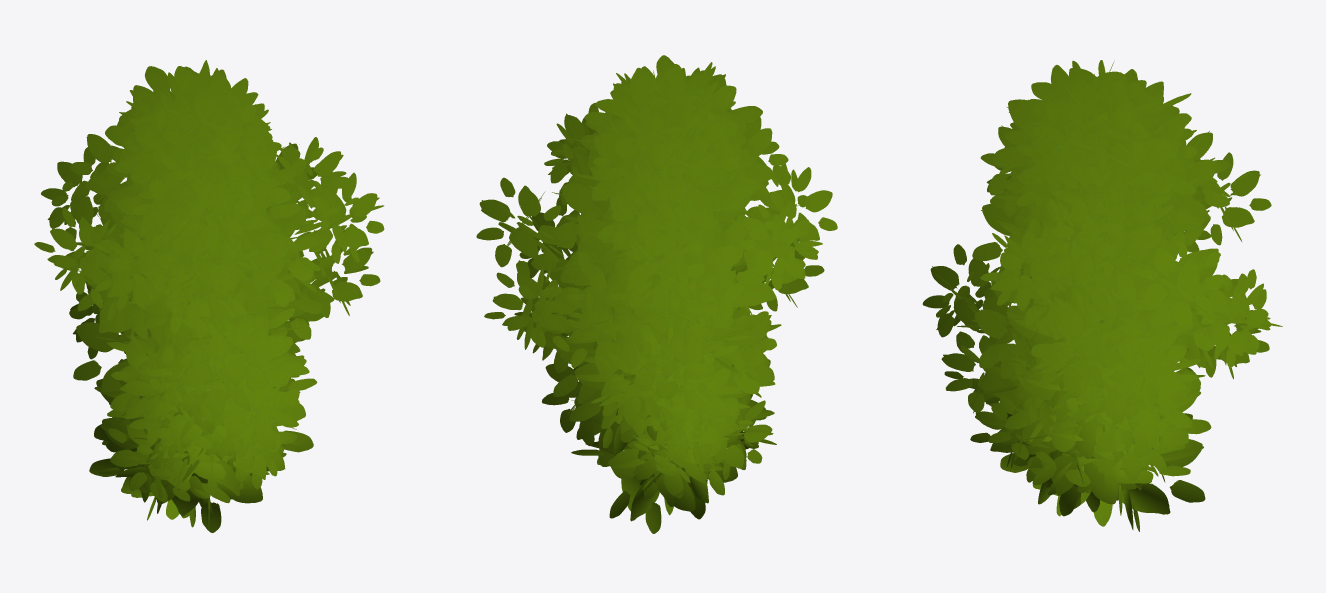
The model's file is Bush_Long_1.glb.
The picture shows the model from 3 angles, left to right: view 1: azimuth 30°, elevation 25°; view 2: azimuth 150°, elevation 25°; view 3: azimuth 270°, elevation 25°; orthographic projection. The views are drawn at different scales.
Parts seen in each view (by area): view 1: Bush_Long_1; view 2: Bush_Long_1; view 3: Bush_Long_1.
Boxes of the visible parts, left/top/right/bottom form: Bush_Long_1: left=34, top=60, right=384, bottom=532; Bush_Long_1: left=476, top=55, right=837, bottom=533; Bush_Long_1: left=922, top=60, right=1282, bottom=531.
Size of the model in its own units: 1.68 by 2.37 by 1.64.
Materials: 1 (1 with a texture image).
